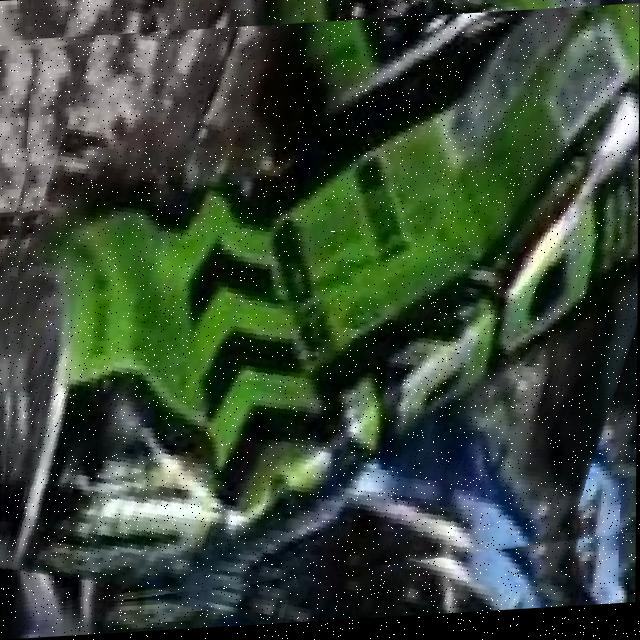can: (0, 10, 640, 595)
